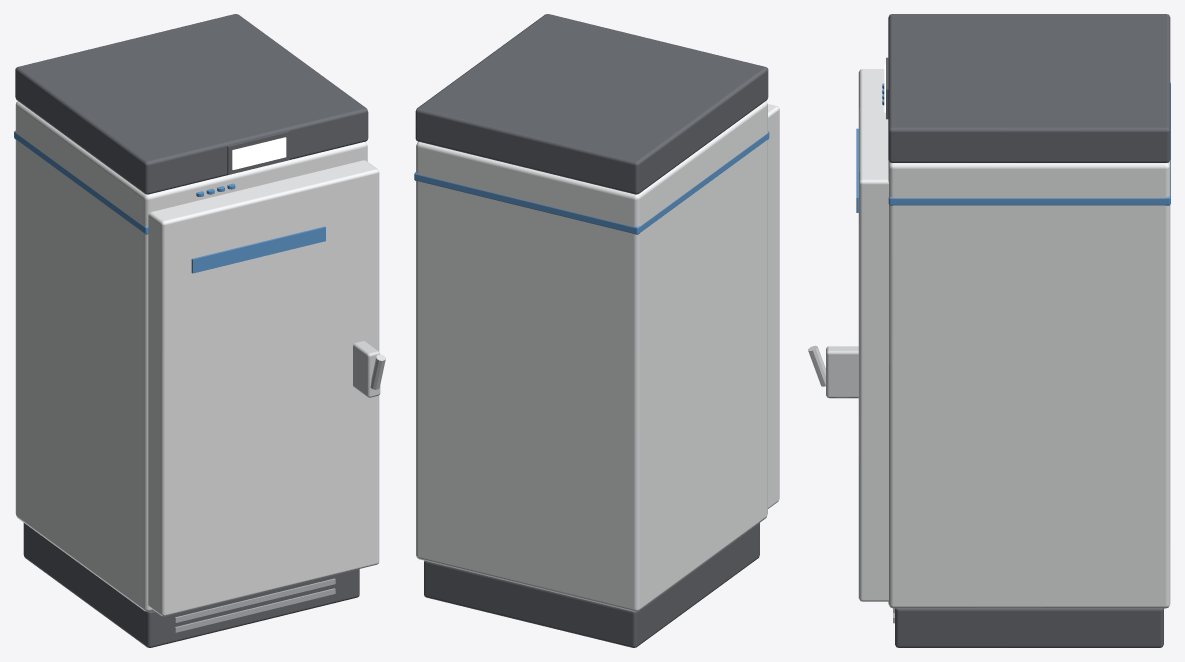
File: minus-eighty-freezer.glb
3 views of the same model, side by side, from view 1: azimuth 30°, elevation 25°; view 2: azimuth 150°, elevation 25°; view 3: azimuth 270°, elevation 25° (orthographic). The views are drawn at different scales.
Parts seen in each view (by area): view 1: minus-eighty-freezer, door-freezer/white, door-freezer/blue, door-freezer/steel; view 2: minus-eighty-freezer, door-freezer/white; view 3: minus-eighty-freezer, door-freezer/white, door-freezer/steel.
Boxes of the visible parts, <box> form: minus-eighty-freezer: <box>14,14,368,647</box>; door-freezer/white: <box>148,160,379,616</box>; door-freezer/blue: <box>191,226,325,273</box>; door-freezer/steel: <box>353,341,385,397</box>; minus-eighty-freezer: <box>414,14,769,647</box>; door-freezer/white: <box>768,104,779,508</box>; minus-eighty-freezer: <box>882,14,1170,647</box>; door-freezer/white: <box>858,69,888,601</box>; door-freezer/steel: <box>808,345,858,398</box>.
Bounding box in the file's own units: 0.842 × 1.76 × 1.11.
